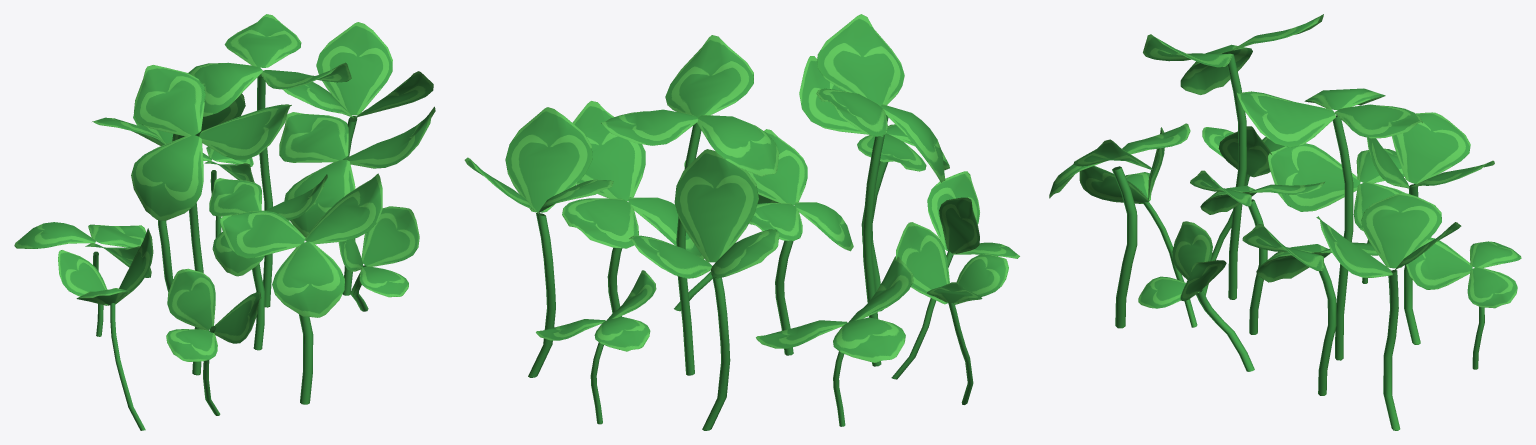
The model's file is SM_TrefleTas2.fbx.
The picture shows the model from 3 angles, left to right: view 1: azimuth 30°, elevation 25°; view 2: azimuth 150°, elevation 25°; view 3: azimuth 270°, elevation 25°; orthographic projection. The views are drawn at different scales.
Visible parts, largest first — view 1: Trefle_Tige_026; view 2: Trefle_Tige_026; view 3: Trefle_Tige_026.
Part boxes in pixels (<box>): Trefle_Tige_026: <box>14,14,435,430</box>; Trefle_Tige_026: <box>464,14,1019,430</box>; Trefle_Tige_026: <box>1049,14,1521,430</box>.
Size of the model in its own units: 27.76 by 27.28 by 20.51.
Materials: 1 (1 with a texture image).
